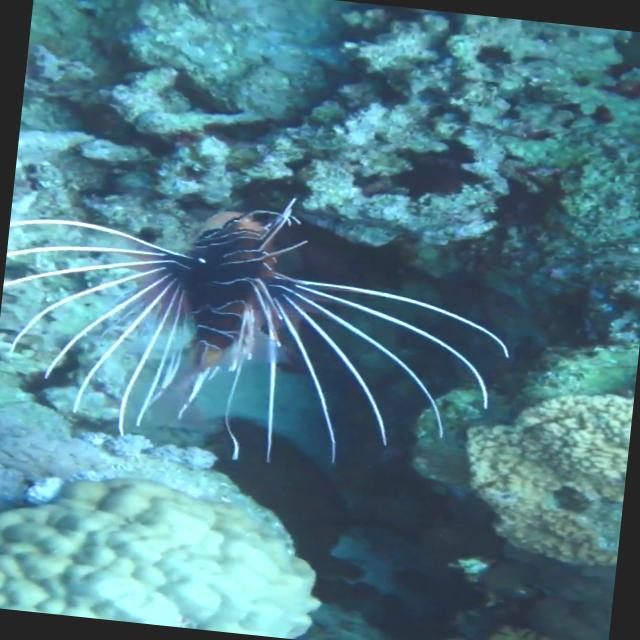Aslan Baligi: (0, 166, 525, 488)
